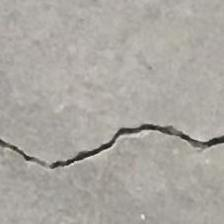Crack: (0, 116, 224, 184)
